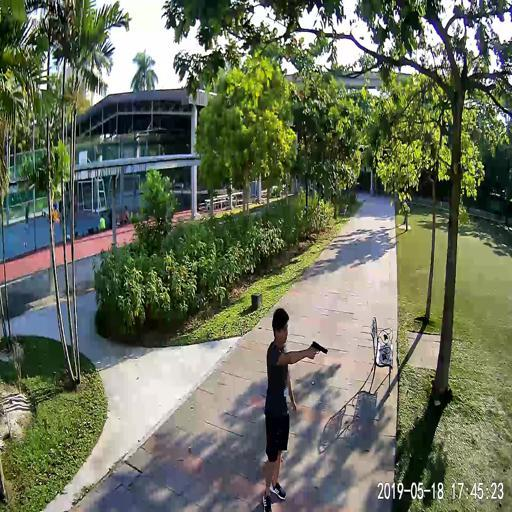Handgun: (308, 337, 327, 358)
